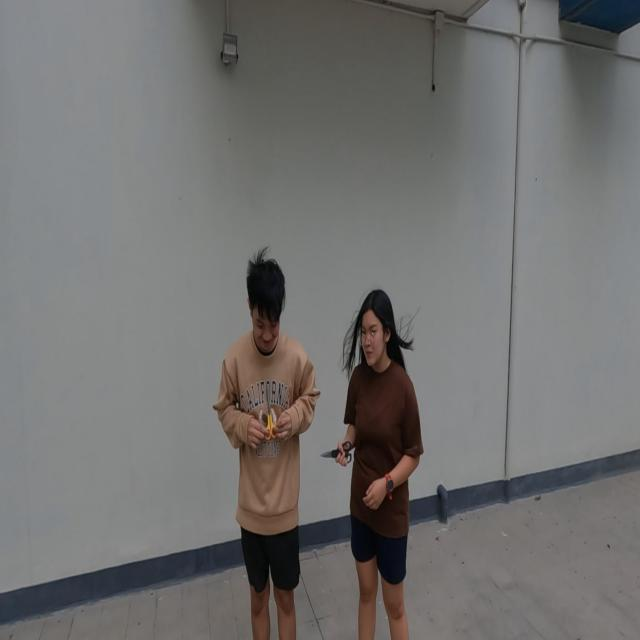scissor: (320, 441, 352, 465), (264, 388, 277, 442)
